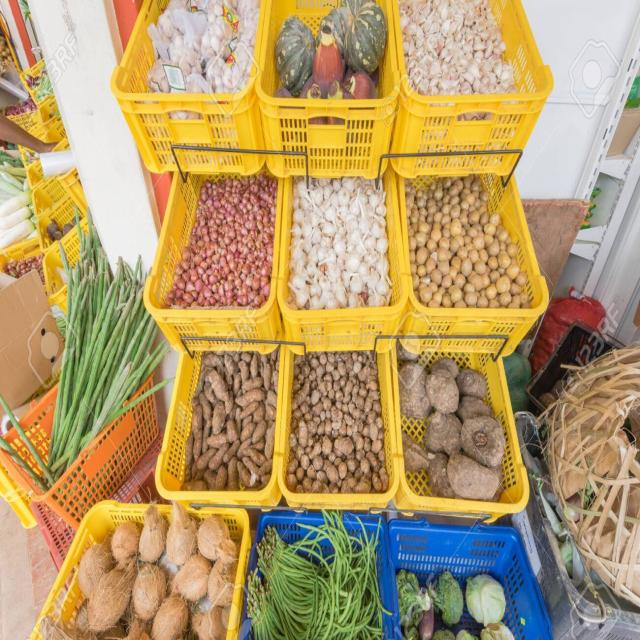basket: (0, 347, 184, 538), (264, 164, 416, 359), (395, 171, 551, 355), (110, 0, 270, 173), (389, 342, 531, 525), (389, 0, 554, 154), (143, 171, 283, 352), (8, 480, 153, 640), (276, 346, 404, 512), (389, 520, 553, 640), (155, 352, 281, 506), (188, 503, 258, 640), (225, 485, 329, 574), (342, 505, 407, 640), (31, 220, 86, 312), (23, 189, 84, 253), (13, 379, 61, 458), (392, 154, 517, 177), (21, 172, 68, 216), (57, 167, 90, 219), (38, 117, 71, 148), (265, 154, 305, 177), (21, 159, 46, 190), (241, 602, 251, 640), (79, 209, 86, 220)
